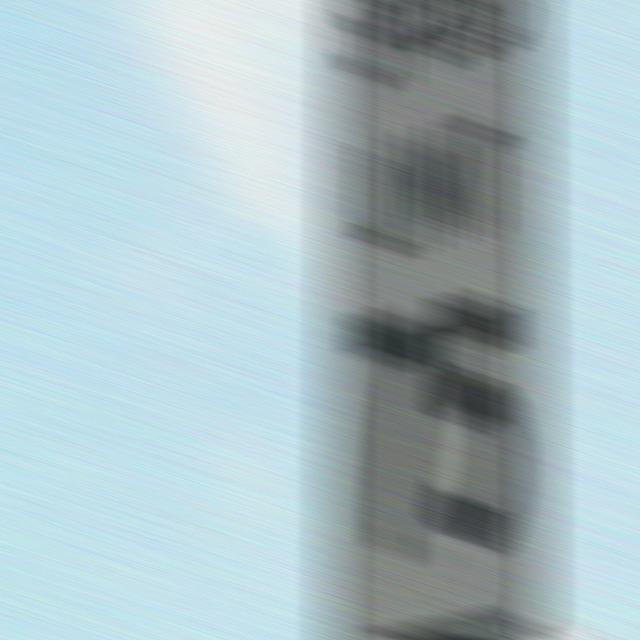speedLimit75: (324, 2, 550, 628)
